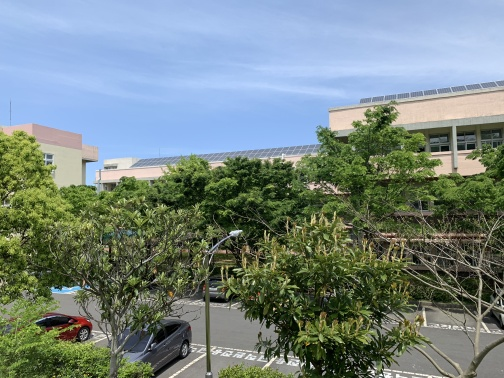College Of Education: (3, 75, 504, 299)
